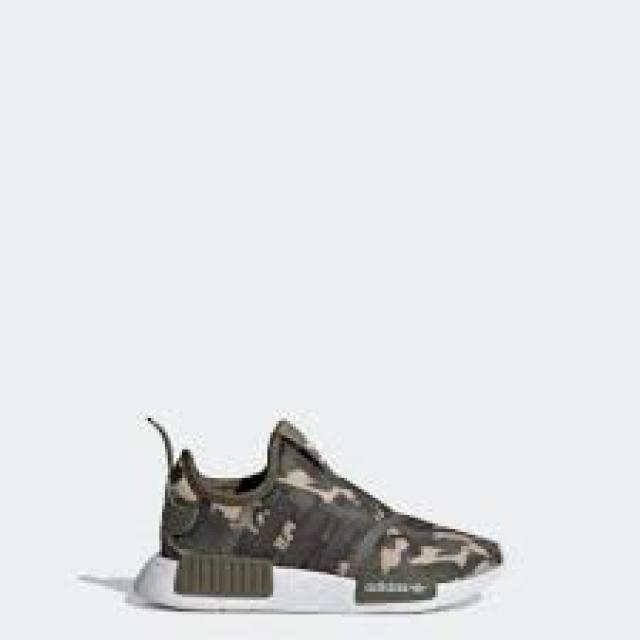shoe: (128, 416, 508, 614)
